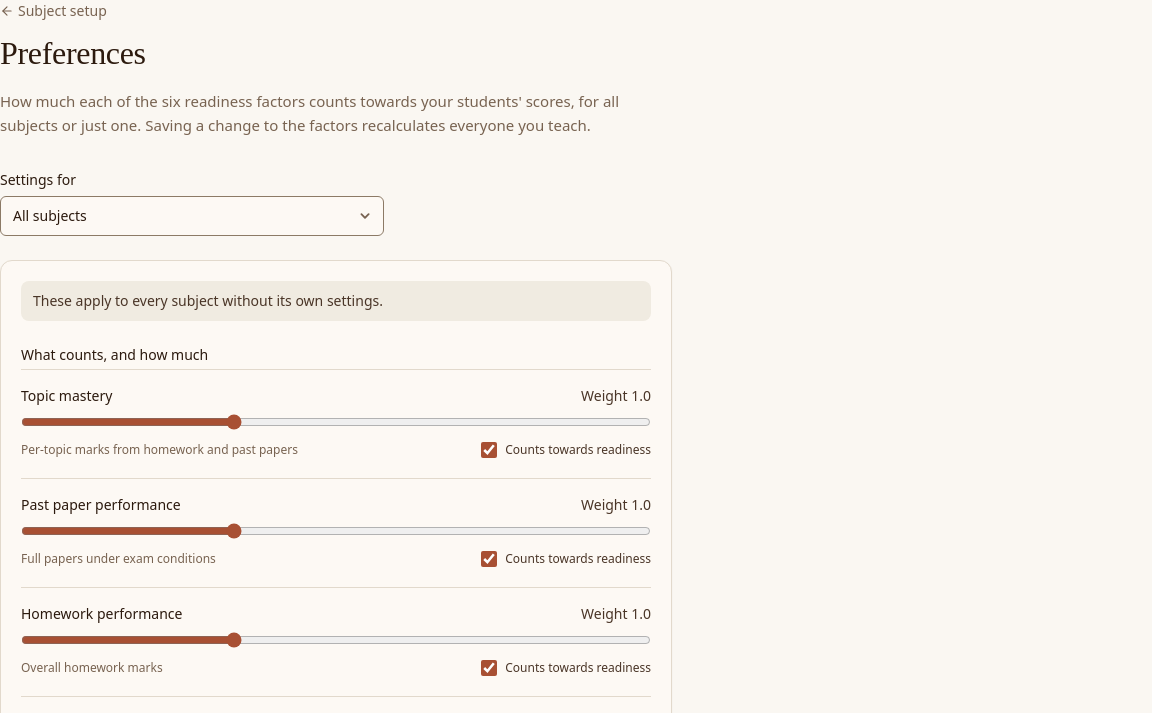
it: a failed removal is reported as a removal, not as a failed save
The width and height of the screenshot is (1152, 713).
Select "Chemistry (Edexcel IGCSE 4CH1)" in the dropdown labelled "Settings for" at (192, 216), box [0,196,384,236]
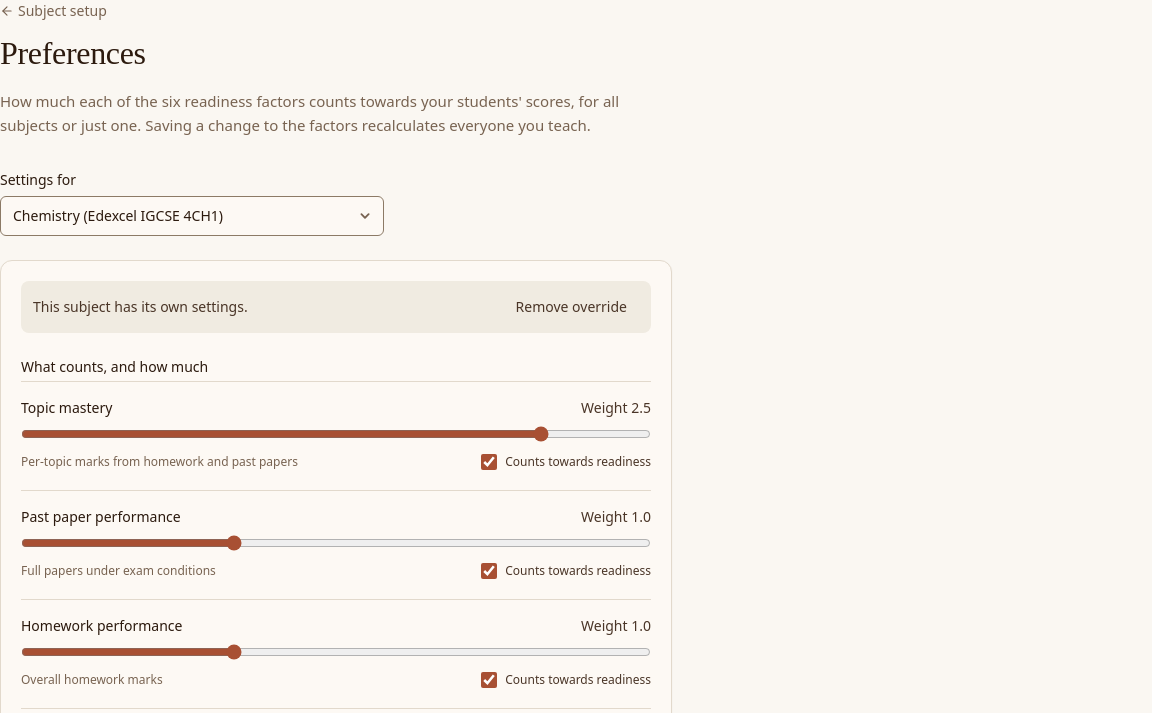
Click the button "Remove override" at (571, 307), box [504,291,639,323]
(page scrolled)
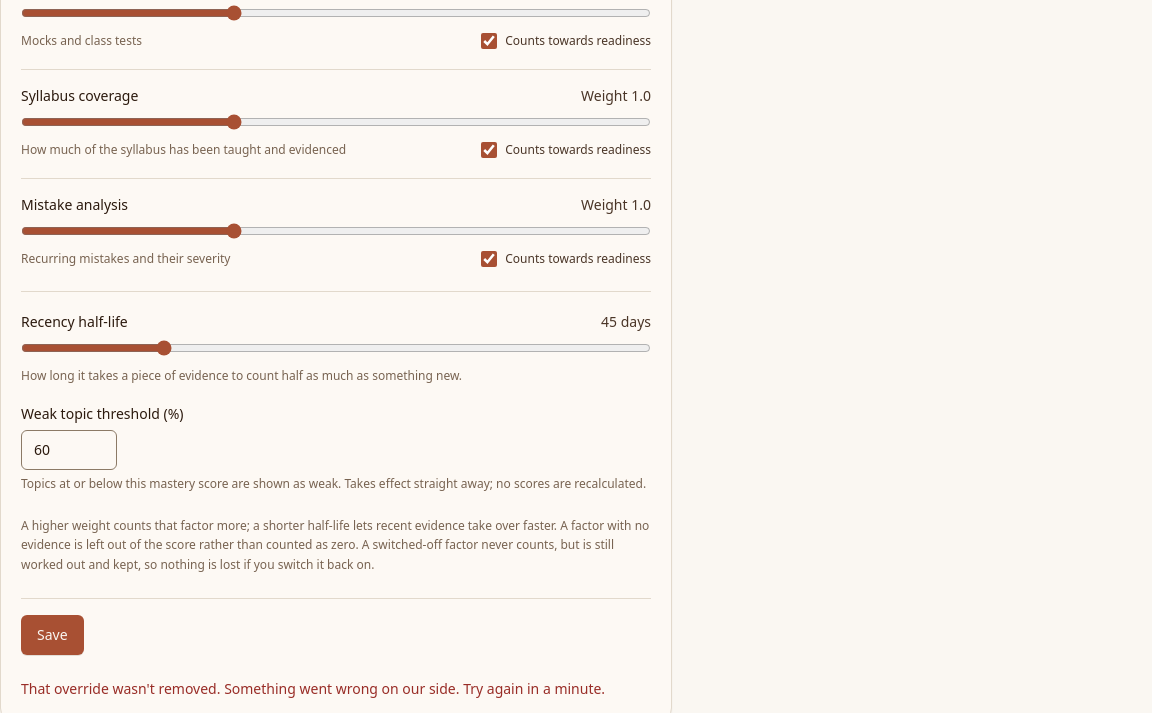
expect the message shows "override wasn't removed": met, box [21,679,220,698]
